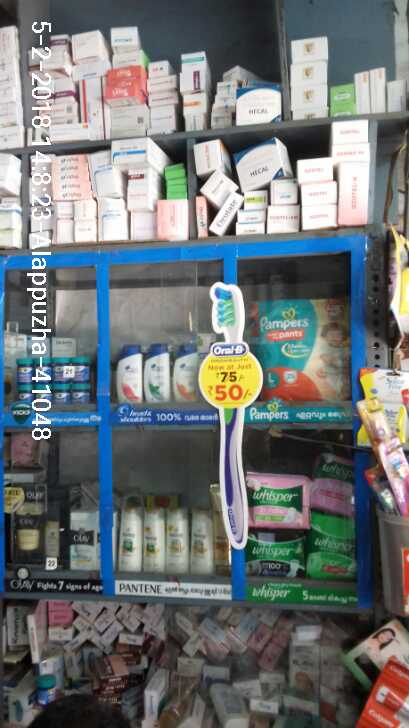vicks: (17, 343, 93, 417)
